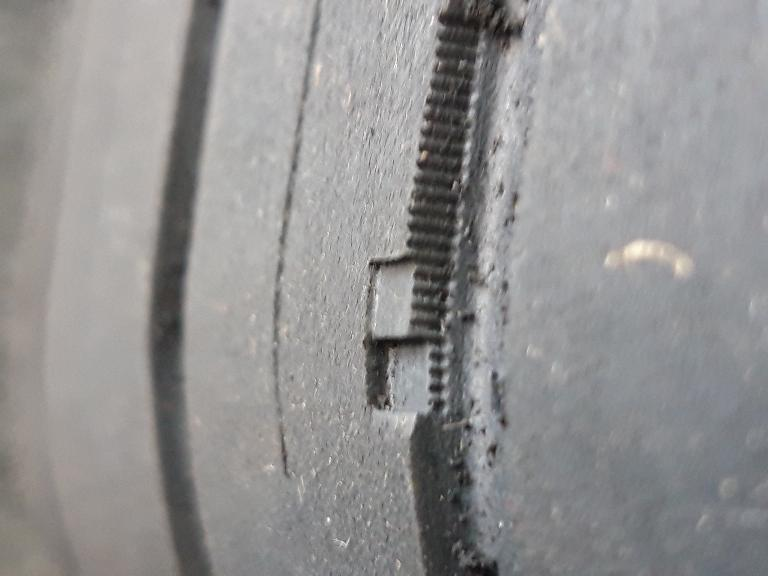temoin:25: (348, 237, 466, 437)
